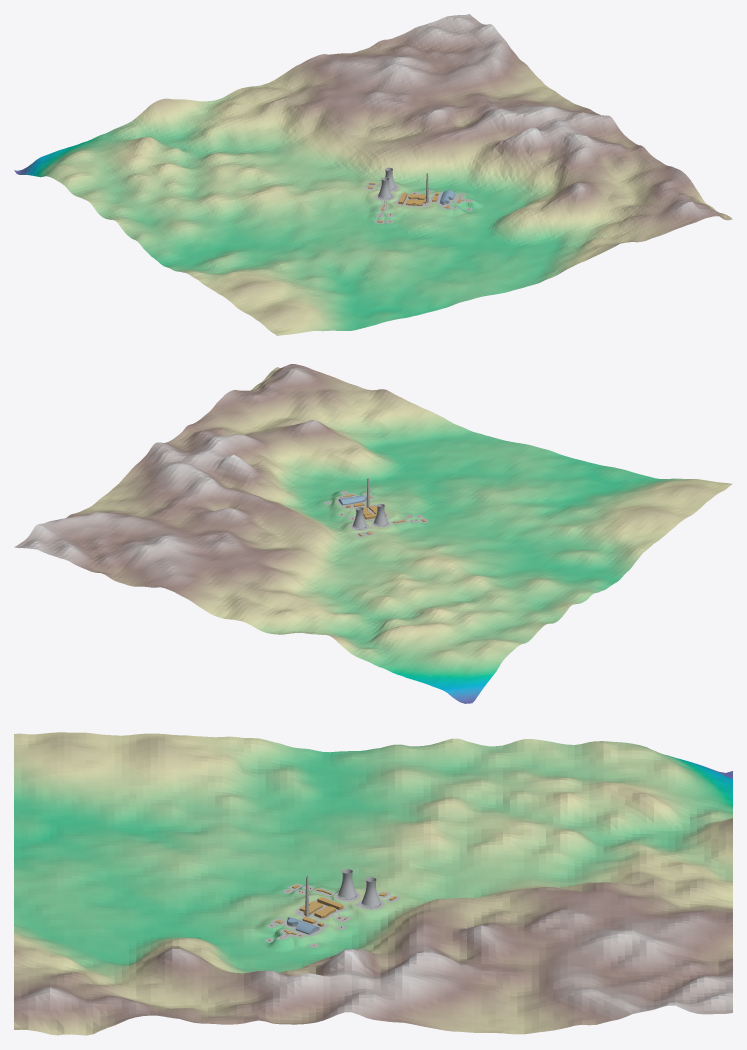
File: zhijin_scene_v4.glb
The picture shows the model from 3 angles, top to bottom: view 1: azimuth 30°, elevation 25°; view 2: azimuth 150°, elevation 25°; view 3: azimuth 270°, elevation 25°; orthographic projection. The views are drawn at different scales.
Visible parts, largest first — view 1: geometry_0; view 2: geometry_0; view 3: geometry_0.
Boxes of the visible parts, box(x1,y1,x2,y2) form: geometry_0: box(14, 14, 732, 335); geometry_0: box(14, 364, 732, 703); geometry_0: box(14, 732, 732, 1035).
Bounding box in the file's own units: 4000 × 455 × 4000.
